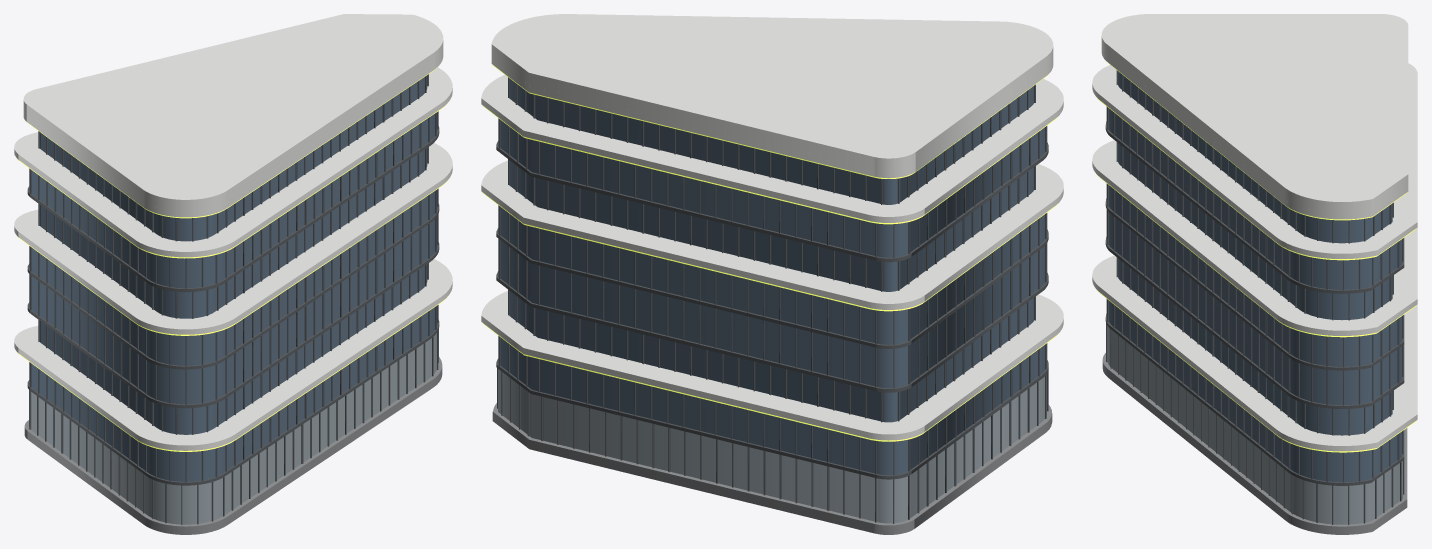
Rendered from tower19.glb.
3 renders of one model, left to right at view 1: azimuth 30°, elevation 25°; view 2: azimuth 150°, elevation 25°; view 3: azimuth 270°, elevation 25°, orthographic. The views are drawn at different scales.
Visible parts, largest first — view 1: TOWER_GLASS_0472, TOWER_ALU_4991, TOWER_METAL_5487, TOWER_GLASS_GF_0294, TOWER_ALU_2996, TOWER_ALU_3695, TOWER_ALU_2297, TOWER_METAL_1193, TOWER_STONE_0000, TOWER_ALU_4394, TOWER_ACCENT_2651, TOWER_ACCENT_3350 (+2 smaller); view 2: TOWER_GLASS_0472, TOWER_ALU_4991, TOWER_METAL_5487, TOWER_GLASS_GF_0294, TOWER_ALU_2297, TOWER_ALU_2996, TOWER_ALU_3695, TOWER_METAL_1193, TOWER_STONE_0000, TOWER_ALU_4394, TOWER_ACCENT_2651, TOWER_ACCENT_3350 (+2 smaller); view 3: TOWER_GLASS_0472, TOWER_ALU_4991, TOWER_METAL_5487, TOWER_GLASS_GF_0294, TOWER_ALU_3695, TOWER_ALU_2297, TOWER_ALU_2996, TOWER_METAL_1193, TOWER_STONE_0000, TOWER_ALU_4394, TOWER_ACCENT_2651, TOWER_ACCENT_3350 (+1 smaller).
Boxes of the visible parts, x1,y1,x2,y2 form: TOWER_GLASS_0472: (29,75,437,481); TOWER_ALU_4991: (23,14,443,211); TOWER_METAL_5487: (29,74,438,524); TOWER_GLASS_GF_0294: (29,333,436,524); TOWER_ALU_2996: (14,143,452,334); TOWER_ALU_3695: (14,67,452,257); TOWER_ALU_2297: (14,259,452,450); TOWER_METAL_1193: (27,126,439,485); TOWER_STONE_0000: (24,357,442,534); TOWER_ALU_4394: (23,52,443,217); TOWER_ACCENT_2651: (17,295,448,451); TOWER_ACCENT_3350: (17,179,448,335); TOWER_GLASS_0472: (498,78,1045,475); TOWER_ALU_4991: (491,14,1053,171); TOWER_METAL_5487: (497,77,1048,523); TOWER_GLASS_GF_0294: (498,369,1046,523); TOWER_ALU_2297: (481,291,1063,440); TOWER_ALU_2996: (481,160,1063,309); TOWER_ALU_3695: (481,75,1063,222); TOWER_METAL_1193: (496,141,1048,479); TOWER_STONE_0000: (492,403,1052,534); TOWER_ALU_4394: (491,57,1053,178); TOWER_ACCENT_2651: (482,323,1058,441); TOWER_ACCENT_3350: (482,192,1058,311); TOWER_GLASS_0472: (1109,71,1402,482); TOWER_ALU_4991: (1101,14,1408,213); TOWER_METAL_5487: (1106,70,1404,524); TOWER_GLASS_GF_0294: (1107,326,1402,524); TOWER_ALU_3695: (1092,63,1417,258); TOWER_ALU_2297: (1092,255,1417,451); TOWER_ALU_2996: (1092,140,1417,335); TOWER_METAL_1193: (1105,121,1404,485); TOWER_STONE_0000: (1102,353,1407,534); TOWER_ALU_4394: (1101,48,1408,219); TOWER_ACCENT_2651: (1096,289,1416,452); TOWER_ACCENT_3350: (1096,174,1416,337).
Size of the model in its own units: 42.62 by 33.81 by 29.9.
